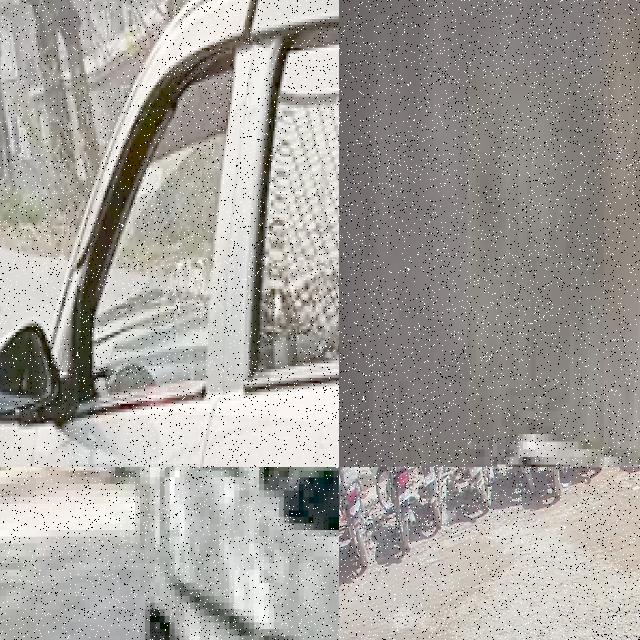bike: (420, 236, 640, 467), (339, 467, 373, 567), (374, 467, 415, 548), (407, 467, 449, 527), (449, 467, 494, 509)
car: (0, 0, 339, 467), (125, 467, 339, 640)
